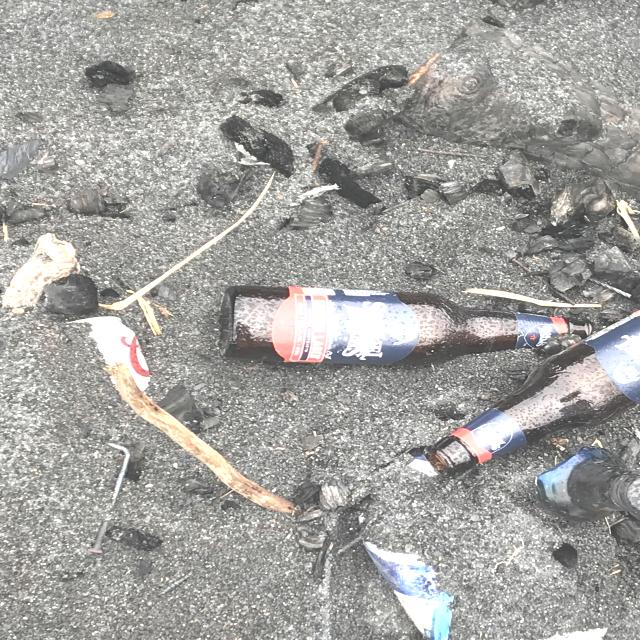Drink can: (66, 316, 151, 392)
Glass bottle: (424, 310, 640, 478), (218, 285, 594, 365), (535, 445, 640, 522)
Scrap metal: (88, 443, 130, 552)
Unlabeled litter: (361, 454, 454, 639)
